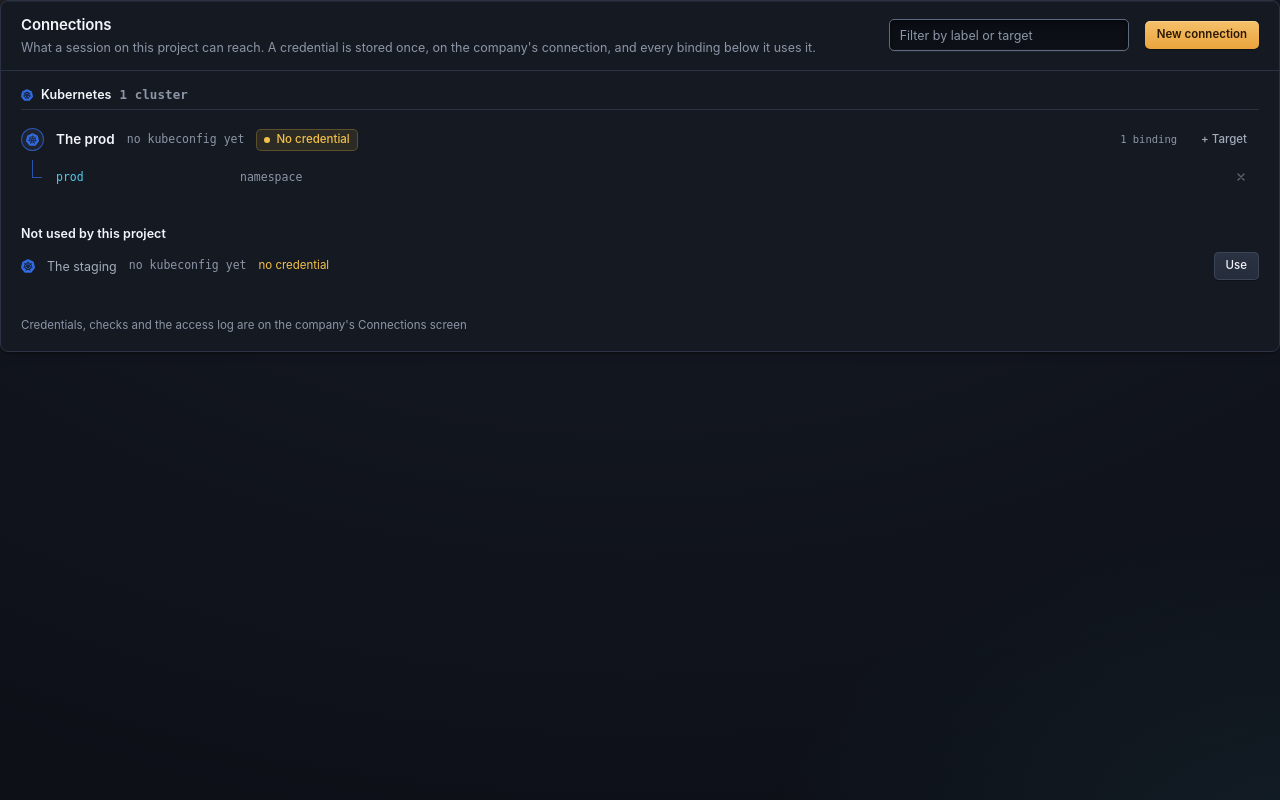
Test case: ProjectConnectionsPage › saves a target and a label typed in place and unbinds on request
The image size is (1280, 800).
Type " apps " into the field with test id "connection-target" at (725, 176), box [231,162,1219,190]
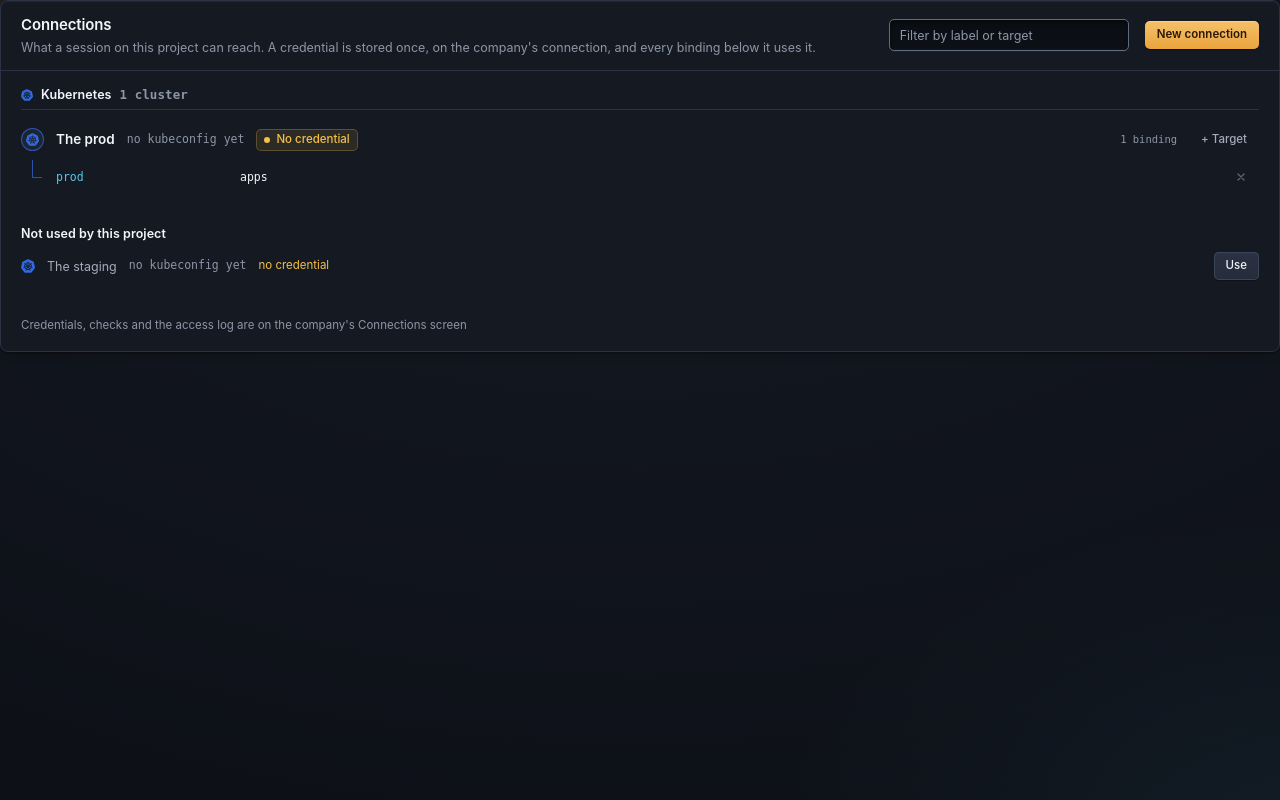
Replace the text in the field with test id "connection-label" with "prod-apps" at (135, 176), box [47,162,223,190]
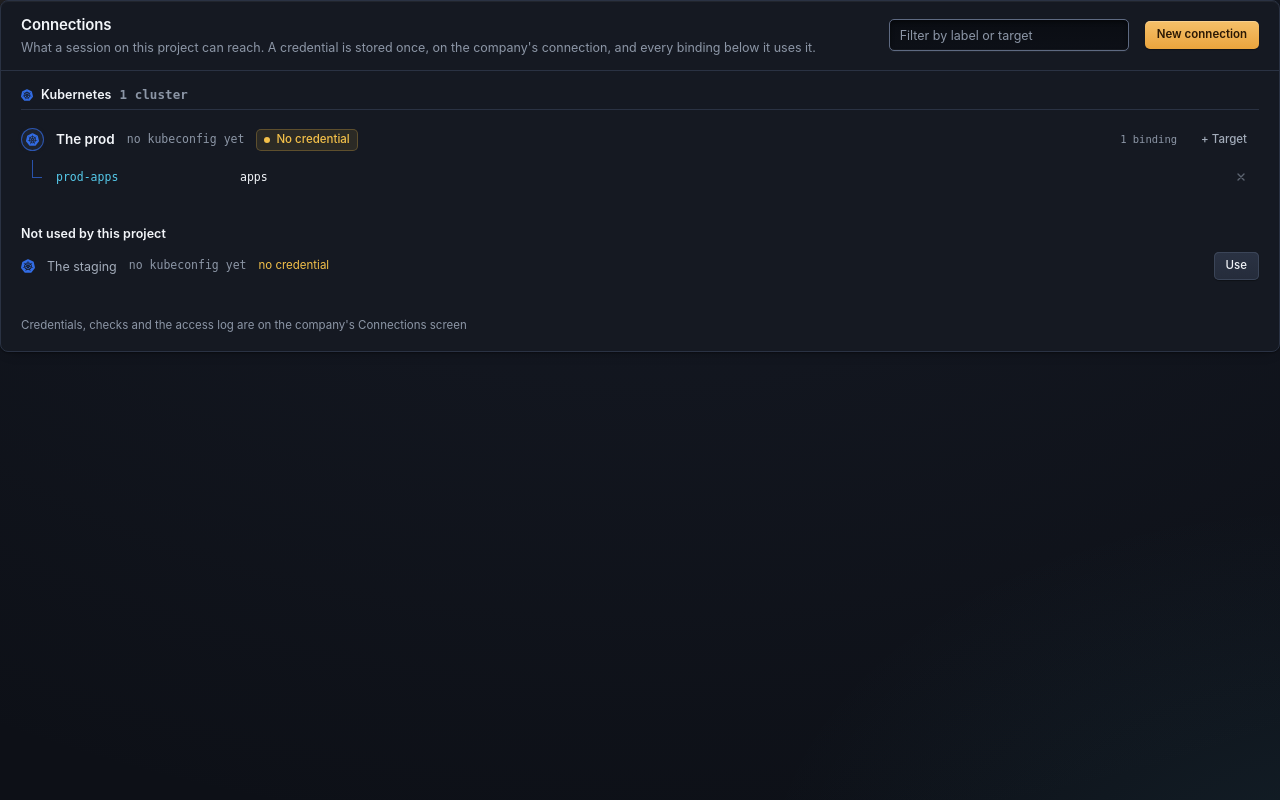
Click the button with test id "unbind-connection" at (1241, 176), box [1227,162,1255,190]
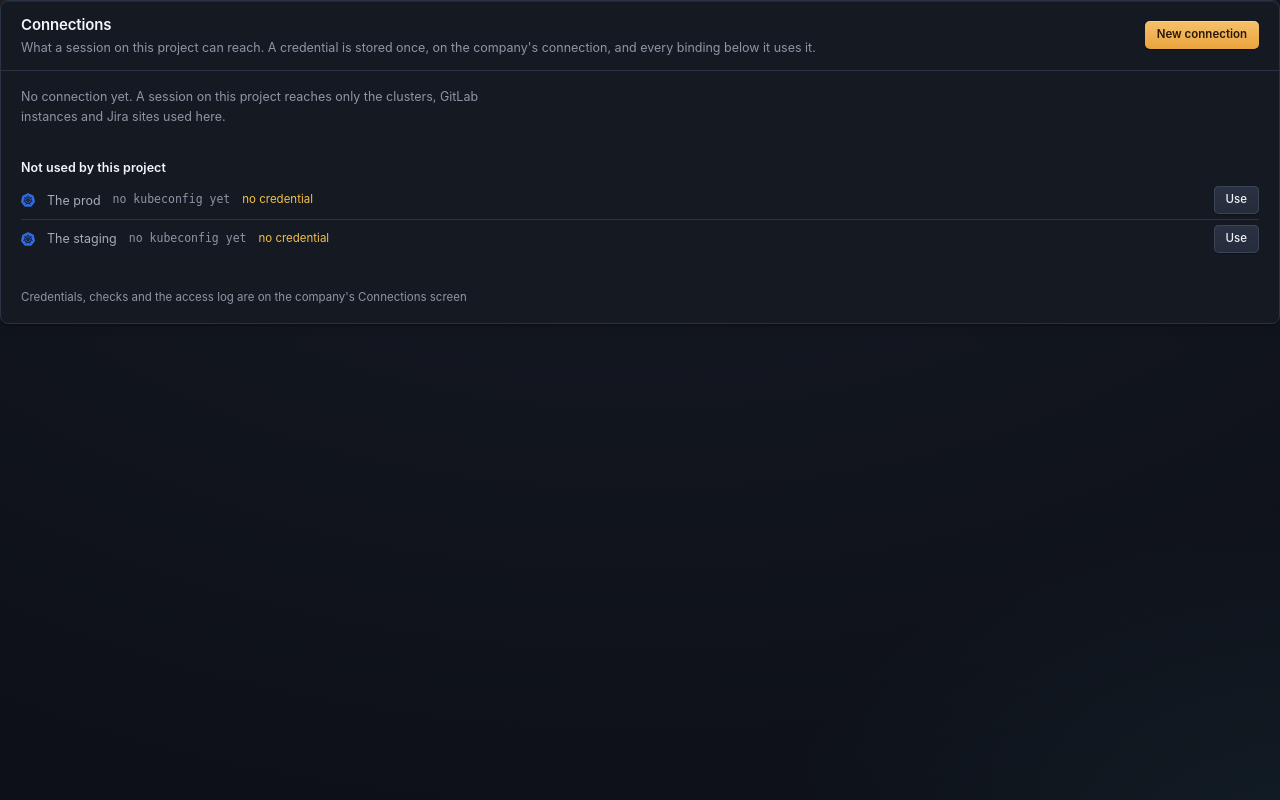
Expected: no elements with test id "project-connection" are shown
